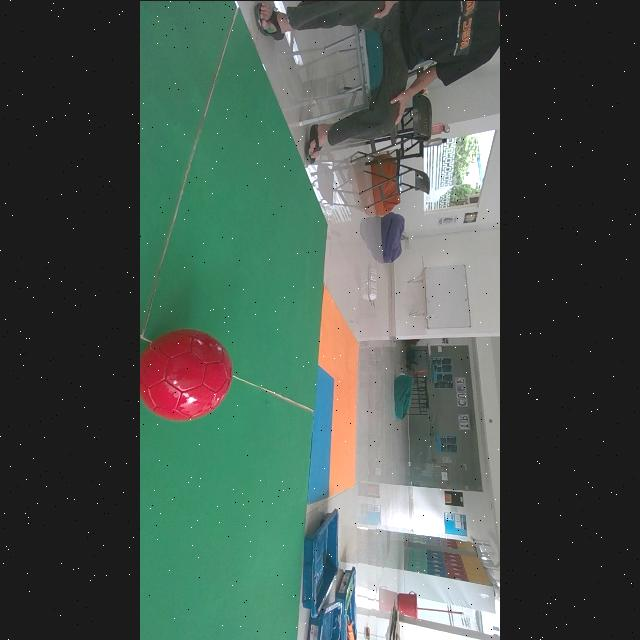R: (140, 329, 232, 420)
